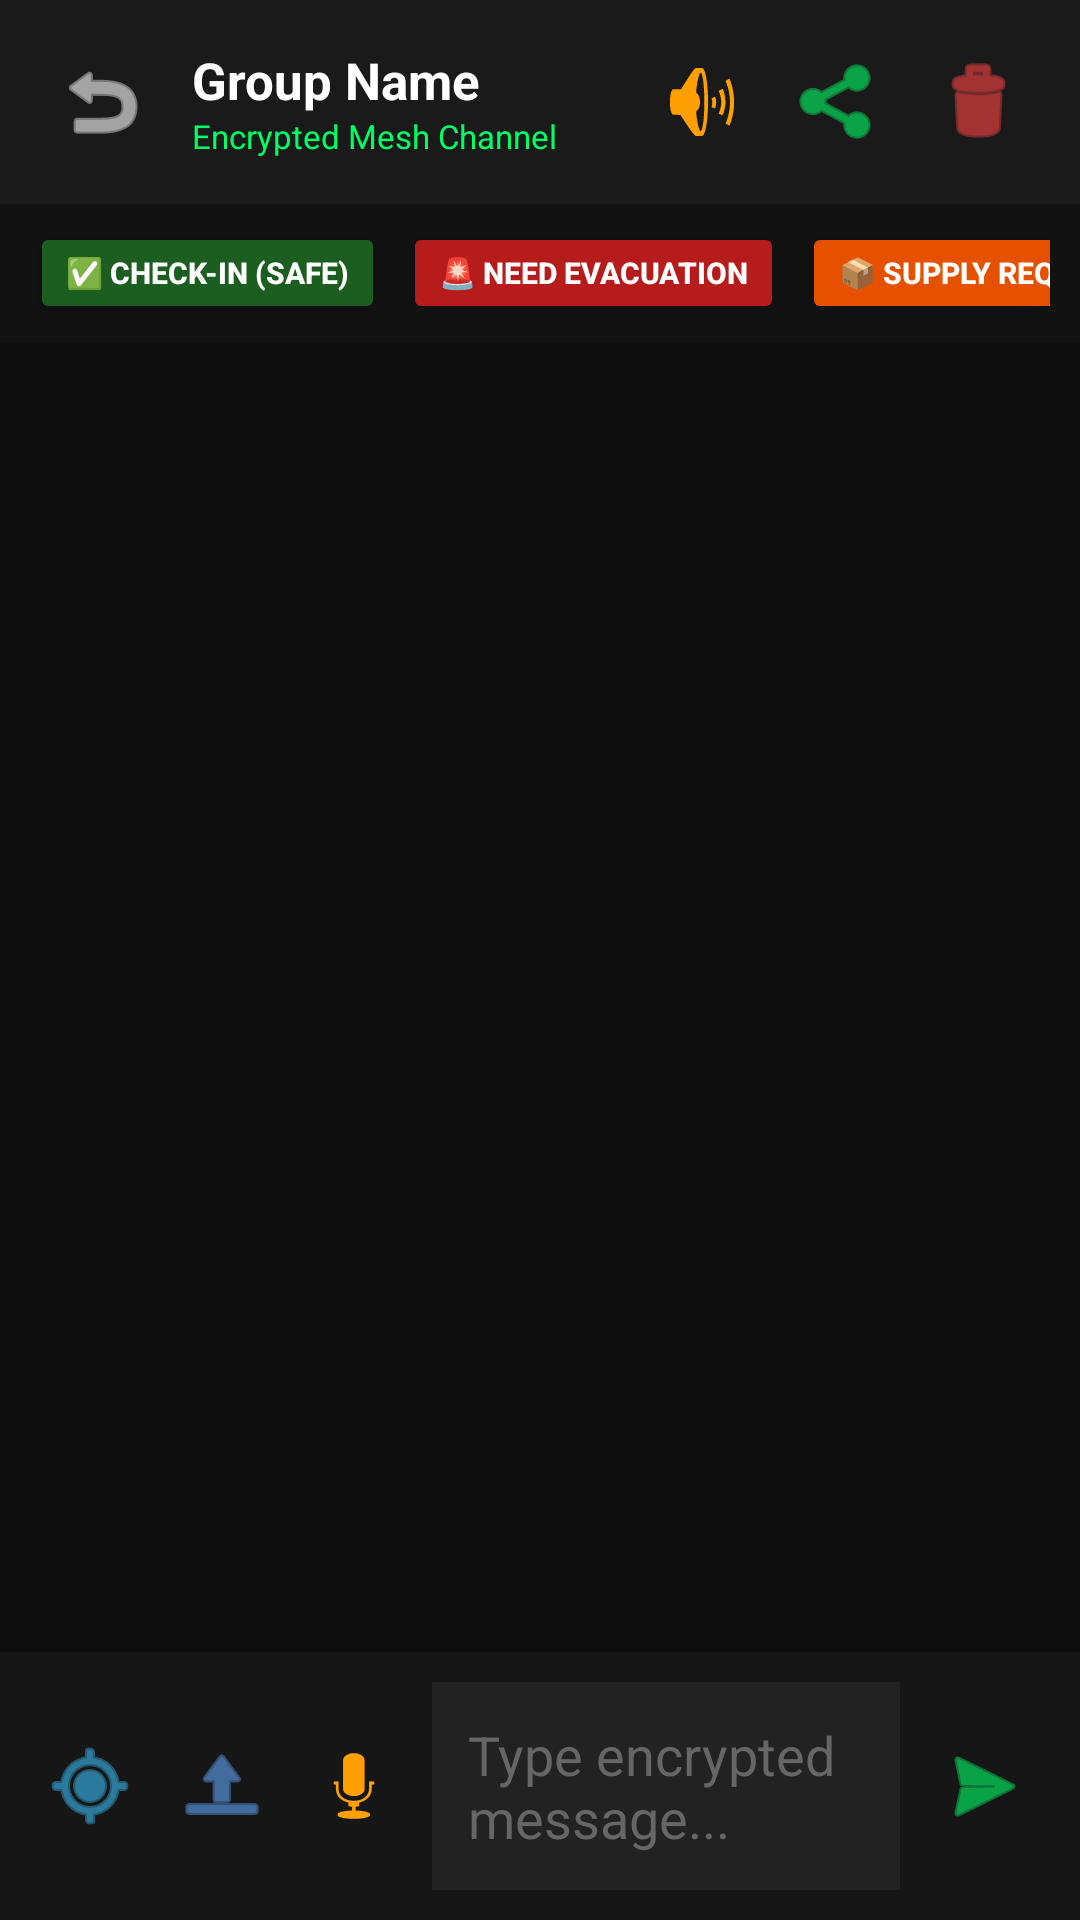

Icons on this 1080 x 1920 Android screen, each with its box as (x1, y1, x2, y2):
Attach Location: (52, 1748, 128, 1824)
delete: (951, 63, 1006, 138)
lock silent mode off: (670, 68, 734, 136)
revert: (69, 71, 138, 134)
send: (954, 1756, 1016, 1817)
share: (799, 64, 871, 139)
speak now: (333, 1753, 375, 1819)
upload: (185, 1754, 259, 1815)
